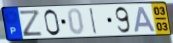0: (66, 7, 86, 36), (43, 8, 62, 37)
9: (114, 6, 132, 34)
A: (133, 6, 157, 34)
I: (89, 7, 98, 35)
Z: (18, 9, 44, 38)
